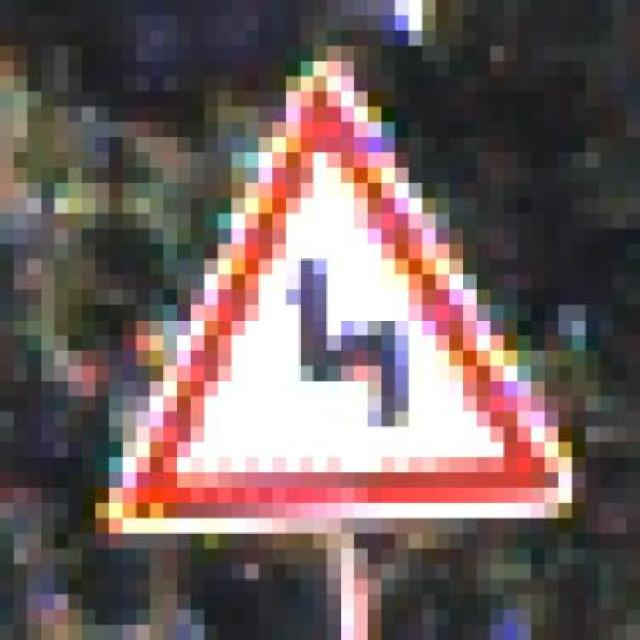Left Zig Zag Traffic: (96, 46, 586, 548)
